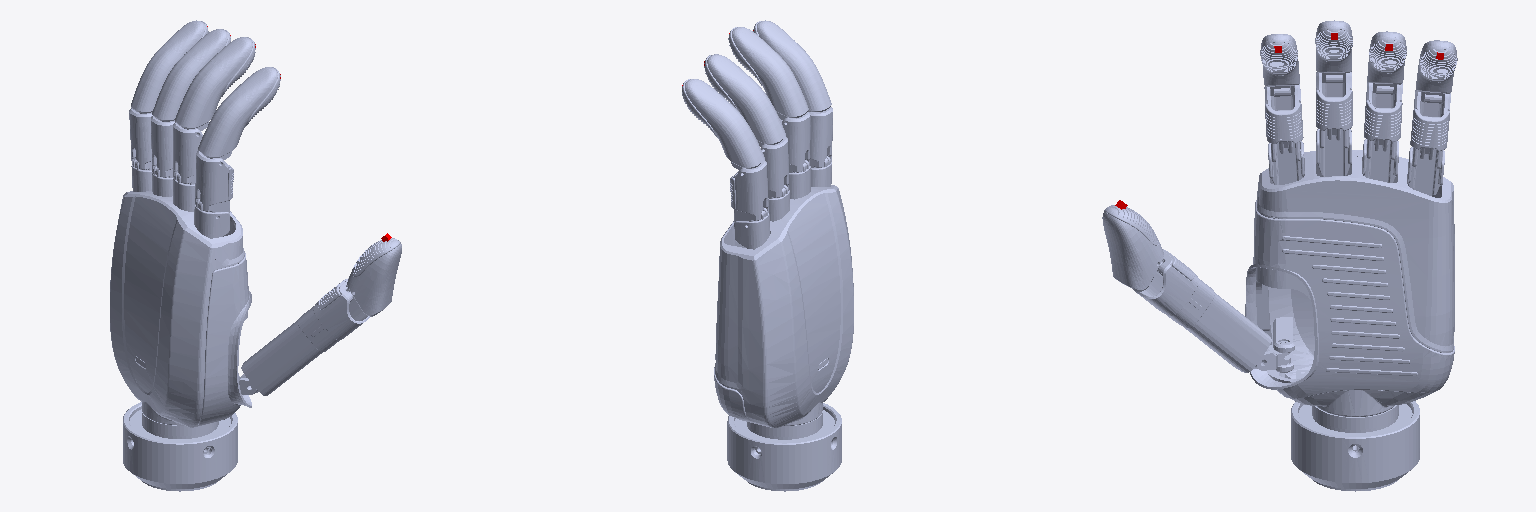
The robot description file, URDF, robot "LinkerLeftHand":
<?xml version="1.0" encoding="utf-8"?>

<!-- This URDF was automatically created by SolidWorks to URDF Exporter! Originally created by Stephen Brawner (brawner@gmail.com) 
     Commit Version: 1.6.0-1-g15f4949  Build Version: 1.6.7594.29634
     For more information, please see http://wiki.ros.org/sw_urdf_exporter -->
<robot name="LinkerLeftHand"> 
  <link name="base_link"> 
    <inertial> 
      <origin xyz="0.00646140274510786 -0.0112810445470838 0.0905307075615191" rpy="0 0 0"/>  
      <mass value="0.989011744524491"/>  
      <inertia ixx="0.00478399523069539" ixy="0.00035287455140517" ixz="-0.000147692771617922" iyy="0.00333942627823233" iyz="-0.000347763064470168" izz="0.00199340034930999"/> 
    </inertial>  
    <visual> 
      <origin xyz="0 0 0" rpy="0 0 0"/>  
      <geometry> 
        <mesh filename="Visual/L_base_link.dae"/> 
      </geometry>  
      <material name=""> 
        <color rgba="0.796078431372549 0.823529411764706 0.937254901960784 1"/> 
      </material> 
    </visual>  
    <collision> 
      <origin xyz="0 0 0" rpy="0 0 0"/>  
      <geometry> 
        <mesh filename="RoughCollision/L_base_link.obj"/> 
      </geometry> 
    </collision> 
  </link>  
  <link name="base_offset"> </link>  
  <link name="thumb_prox_base"> 
    <inertial> 
      <origin xyz="-0.00135186116860994 0.0163780842357051 0.0644493696518111" rpy="0 0 0"/>  
      <mass value="0.989011744524491"/>  
      <inertia ixx="0.00478399523069531" ixy="0.000357813993158782" ixz="-0.000135287656929621" iyy="0.0033620455775523" iyz="-0.000299968919938844" izz="0.0019707810499901"/> 
    </inertial>  
    <visual> 
      <origin xyz="0 0 0" rpy="0 0 0"/>  
      <geometry> 
        <mesh filename="Visual/L_thumb_prox_base.dae"/> 
      </geometry>  
      <material name=""> 
        <color rgba="0.796078431372549 0.823529411764706 0.937254901960784 1"/> 
      </material> 
    </visual>  
    <collision> 
      <origin xyz="0 0 0" rpy="0 0 0"/>  
      <geometry> 
        <mesh filename="RoughCollision/L_thumb_prox_base.obj"/> 
      </geometry> 
    </collision> 
  </link>  
  <link name="thumb_prox"> 
    <inertial> 
      <origin xyz="0.00426154427968824 0.0642777614231631 -0.0113261563982792" rpy="0 0 0"/>  
      <mass value="0.989011744524491"/>  
      <inertia ixx="0.00484765712058998" ixy="-0.000274494828841134" ixz="0.00010430639540464" iyy="0.0019571510273601" iyz="-0.000192950386299519" izz="0.00331201371028763"/> 
    </inertial>  
    <visual> 
      <origin xyz="0 0 0" rpy="0 0 0"/>  
      <geometry> 
        <mesh filename="Visual/L_thumb_prox.dae"/> 
      </geometry>  
      <material name=""> 
        <color rgba="0.796078431372549 0.823529411764706 0.937254901960784 1"/> 
      </material> 
    </visual>  
    <collision> 
      <origin xyz="0 0 0" rpy="0 0 0"/>  
      <geometry> 
        <mesh filename="RoughCollision/L_thumb_prox.obj"/> 
      </geometry> 
    </collision> 
  </link>  
  <link name="thumb_dist"> 
    <inertial> 
      <origin xyz="0.00426154427958488 0.0232665633409554 -0.108093649404571" rpy="0 0 0"/>  
      <mass value="0.989011744524491"/>  
      <inertia ixx="0.00484765712059143" ixy="-0.000223601900875571" ixz="0.000190340287655303" iyy="0.00198765527544143" iyz="0.000278618753530649" izz="0.00328150946220485"/> 
    </inertial>  
    <visual> 
      <origin xyz="0 0 0" rpy="0 0 0"/>  
      <geometry> 
        <mesh filename="Visual/L_thumb_dist.dae"/> 
      </geometry>  
      <material name=""> 
        <color rgba="0.796078431372549 0.823529411764706 0.937254901960784 1"/> 
      </material> 
    </visual>  
    <collision> 
      <origin xyz="0 0 0" rpy="0 0 0"/>  
      <geometry> 
        <mesh filename="RoughCollision/L_thumb_dist.obj"/> 
      </geometry> 
    </collision> 
  </link>  
  <link name="index_prox"> 
    <inertial> 
      <origin xyz="0.00712961438418152 0.015931631501703 -0.0313904584378722" rpy="0 0 0"/>  
      <mass value="0.989011744524491"/>  
      <inertia ixx="0.00478399523071926" ixy="0.000344661306613898" ixz="-0.000165958390898986" iyy="0.003299388304059" iyz="-0.000416206992946972" izz="0.00203343832345946"/> 
    </inertial>  
    <visual> 
      <origin xyz="0 0 0" rpy="0 0 0"/>  
      <geometry> 
        <mesh filename="Visual/L_index_prox.dae"/> 
      </geometry>  
      <material name=""> 
        <color rgba="0.796078431372549 0.823529411764706 0.937254901960784 1"/> 
      </material> 
    </visual>  
    <collision> 
      <origin xyz="0 0 0" rpy="0 0 0"/>  
      <geometry> 
        <mesh filename="RoughCollision/L_index_prox.obj"/> 
      </geometry> 
    </collision> 
  </link>  
  <link name="index_dist"> 
    <inertial> 
      <origin xyz="0.00619212906127241 0.0159316315019461 -0.0593926212341753" rpy="0 0 0"/>  
      <mass value="0.989011744524491"/>  
      <inertia ixx="0.0047839952306951" ixy="0.00034466130666357" ixz="-0.000165958390890538" iyy="0.00329938830408247" iyz="-0.000416206992953332" izz="0.00203343832346015"/> 
    </inertial>  
    <visual> 
      <origin xyz="0 0 0" rpy="0 0 0"/>  
      <geometry> 
        <mesh filename="Visual/L_index_dist.dae"/> 
      </geometry>  
      <material name=""> 
        <color rgba="0.796078431372549 0.823529411764706 0.937254901960784 1"/> 
      </material> 
    </visual>  
    <collision> 
      <origin xyz="0 0 0" rpy="0 0 0"/>  
      <geometry> 
        <mesh filename="RoughCollision/L_index_dist.obj"/> 
      </geometry> 
    </collision> 
  </link>  
  <link name="middle_prox"> 
    <inertial> 
      <origin xyz="0.0071296143837387 -0.00251314991895438 -0.0365110175625511" rpy="0 0 0"/>  
      <mass value="0.989011744524491"/>  
      <inertia ixx="0.0047839952306951" ixy="0.000352874551405479" ixz="-0.000147692771618648" iyy="0.00333942627823253" iyz="-0.000347763064470315" izz="0.00199340034931008"/> 
    </inertial>  
    <visual> 
      <origin xyz="0 0 0" rpy="0 0 0"/>  
      <geometry> 
        <mesh filename="Visual/L_middle_prox.dae"/> 
      </geometry>  
      <material name=""> 
        <color rgba="0.796078431372549 0.823529411764706 0.937254901960784 1"/> 
      </material> 
    </visual>  
    <collision> 
      <origin xyz="0 0 0" rpy="0 0 0"/>  
      <geometry> 
        <mesh filename="RoughCollision/L_middle_prox.obj"/> 
      </geometry> 
    </collision> 
  </link>  
  <link name="middle_dist"> 
    <inertial> 
      <origin xyz="0.00619212906148296 -0.00251314991895465 -0.0645131803588548" rpy="0 0 0"/>  
      <mass value="0.989011744524491"/>  
      <inertia ixx="0.0047839952306951" ixy="0.000352874551405479" ixz="-0.000147692771618648" iyy="0.00333942627823253" iyz="-0.000347763064470315" izz="0.00199340034931008"/> 
    </inertial>  
    <visual> 
      <origin xyz="0 0 0" rpy="0 0 0"/>  
      <geometry> 
        <mesh filename="Visual/L_middle_dist.dae"/> 
      </geometry>  
      <material name=""> 
        <color rgba="0.796078431372549 0.823529411764706 0.937254901960784 1"/> 
      </material> 
    </visual>  
    <collision> 
      <origin xyz="0 0 0" rpy="0 0 0"/>  
      <geometry> 
        <mesh filename="RoughCollision/L_middle_dist.obj"/> 
      </geometry> 
    </collision> 
  </link>  
  <link name="ring_prox"> 
    <inertial> 
      <origin xyz="0.00713508587423539 -0.0204517282029687 -0.0326279626835988" rpy="0 0 0"/>  
      <mass value="0.989011744524491"/>  
      <inertia ixx="0.0047839952306951" ixy="0.000360120591529546" ixz="-0.000129022336726732" iyy="0.00337209058150474" iyz="-0.000275508971082514" izz="0.00196073604603787"/> 
    </inertial>  
    <visual> 
      <origin xyz="0 0 0" rpy="0 0 0"/>  
      <geometry> 
        <mesh filename="Visual/L_ring_prox.dae"/> 
      </geometry>  
      <material name=""> 
        <color rgba="0.796078431372549 0.823529411764706 0.937254901960784 1"/> 
      </material> 
    </visual>  
    <collision> 
      <origin xyz="0 0 0" rpy="0 0 0"/>  
      <geometry> 
        <mesh filename="RoughCollision/L_ring_prox.obj"/> 
      </geometry> 
    </collision> 
  </link>  
  <link name="ring_dist"> 
    <inertial> 
      <origin xyz="0.00619785363836412 -0.0204517282030047 -0.0606301339518551" rpy="0 0 0"/>  
      <mass value="0.989011744524491"/>  
      <inertia ixx="0.0047839952306951" ixy="0.000360120591529546" ixz="-0.000129022336726731" iyy="0.00337209058150474" iyz="-0.000275508971082512" izz="0.00196073604603787"/> 
    </inertial>  
    <visual> 
      <origin xyz="0 0 0" rpy="0 0 0"/>  
      <geometry> 
        <mesh filename="Visual/L_ring_dist.dae"/> 
      </geometry>  
      <material name=""> 
        <color rgba="0.796078431372549 0.823529411764706 0.937254901960784 1"/> 
      </material> 
    </visual>  
    <collision> 
      <origin xyz="0 0 0" rpy="0 0 0"/>  
      <geometry> 
        <mesh filename="RoughCollision/L_ring_dist.obj"/> 
      </geometry> 
    </collision> 
  </link>  
  <link name="little_prox"> 
    <inertial> 
      <origin xyz="0.00713992514207193 -0.0337446376464546 -0.0310163855948786" rpy="0 0 0"/>  
      <mass value="0.989011744524491"/>  
      <inertia ixx="0.0047839952306951" ixy="0.000364404030410407" ixz="-0.000116375712408851" iyy="0.00338959012145513" iyz="-0.000225612287278209" izz="0.00194323650608748"/> 
    </inertial>  
    <visual> 
      <origin xyz="0 0 0" rpy="0 0 0"/>  
      <geometry> 
        <mesh filename="Visual/L_little_prox.dae"/> 
      </geometry>  
      <material name=""> 
        <color rgba="0.796078431372549 0.823529411764706 0.937254901960784 1"/> 
      </material> 
    </visual>  
    <collision> 
      <origin xyz="0 0 0" rpy="0 0 0"/>  
      <geometry> 
        <mesh filename="RoughCollision/L_little_prox.obj"/> 
      </geometry> 
    </collision> 
  </link>  
  <link name="little_dist"> 
    <inertial> 
      <origin xyz="0.00620269290617523 -0.0386723586880089 -0.0590185568631258" rpy="0 0 0"/>  
      <mass value="0.989011744524491"/>  
      <inertia ixx="0.0047839952306951" ixy="0.000364404030410407" ixz="-0.000116375712408851" iyy="0.00338959012145513" iyz="-0.000225612287278209" izz="0.00194323650608748"/> 
    </inertial>  
    <visual> 
      <origin xyz="0 0 0" rpy="0 0 0"/>  
      <geometry> 
        <mesh filename="Visual/L_little_dist.dae"/> 
      </geometry>  
      <material name=""> 
        <color rgba="0.796078431372549 0.823529411764706 0.937254901960784 1"/> 
      </material> 
    </visual>  
    <collision> 
      <origin xyz="0 0 0" rpy="0 0 0"/>  
      <geometry> 
        <mesh filename="RoughCollision/L_little_dist.obj"/> 
      </geometry> 
    </collision> 
  </link>  
  <link name="thumb_tip_link">
    <inertial>
      <mass value="0.001"/>
      <inertia ixx="1e-6" ixy="0" ixz="0" iyy="1e-6" iyz="0" izz="1e-6"/>
    </inertial>
    <visual>
      <geometry>
        <box size="0.003 0.003 0.003"/>
      </geometry>
      <material name="tip_color">
        <color rgba="1 0 0 1"/>
      </material>
    </visual>
  </link>
  <link name="index_tip_link">
    <inertial>
      <mass value="0.001"/>
      <inertia ixx="1e-6" ixy="0" ixz="0" iyy="1e-6" iyz="0" izz="1e-6"/>
    </inertial>
    <visual>
      <geometry>
        <box size="0.003 0.003 0.003"/>
      </geometry>
      <material name="tip_color">
        <color rgba="1 0 0 1"/>
      </material>
    </visual>
  </link>
  <link name="middle_tip_link">
    <inertial>
      <mass value="0.001"/>
      <inertia ixx="1e-6" ixy="0" ixz="0" iyy="1e-6" iyz="0" izz="1e-6"/>
    </inertial>
    <visual>
      <geometry>
        <box size="0.003 0.003 0.003"/>
      </geometry>
      <material name="tip_color">
        <color rgba="1 0 0 1"/>
      </material>
    </visual>
  </link>
  <link name="ring_tip_link">
    <inertial>
      <mass value="0.001"/>
      <inertia ixx="1e-6" ixy="0" ixz="0" iyy="1e-6" iyz="0" izz="1e-6"/>
    </inertial>
    <visual>
      <geometry>
        <box size="0.003 0.003 0.003"/>
      </geometry>
      <material name="tip_color">
        <color rgba="1 0 0 1"/>
      </material>
    </visual>
  </link>
  <link name="little_tip_link">
    <inertial>
      <mass value="0.001"/>
      <inertia ixx="1e-6" ixy="0" ixz="0" iyy="1e-6" iyz="0" izz="1e-6"/>
    </inertial>
    <visual>
      <geometry>
        <box size="0.003 0.003 0.003"/>
      </geometry>
      <material name="tip_color">
        <color rgba="1 0 0 1"/>
      </material>
    </visual>
  </link>

  <joint name="BASE_OFFSET" type="fixed"> 
    <origin xyz="0 -0.00013 0.0264" rpy="0 0 0"/>  
    <parent link="base_link"/>  
    <child link="base_offset"/>
  </joint>
  <joint name="thumbCMC" type="revolute"> 
    <origin xyz="0.0078133 -0.029898 0.030692" rpy="0 0 0"/>  
    <parent link="base_offset"/>  
    <child link="thumb_prox_base"/>  
    <axis xyz="0 0 1"/>  
    <limit lower="0" upper="1.0471975511965976" effort="0" velocity="0"/> 
  </joint>  
  <joint name="thumbMCP" type="revolute"> 
    <origin xyz="0.0080248 -0.011602 0.0026685" rpy="1.4249 0 0.61087"/>  
    <parent link="thumb_prox_base"/>  
    <child link="thumb_prox"/>  
    <axis xyz="-1 0 0"/>  
    <limit lower="0.235968" upper="0.99" effort="0" velocity="0"/> 
  </joint>  
  <joint name="thumbPIP" type="revolute"> 
    <origin xyz="0 0.0061 0.0827" rpy="0.34208 0 0"/>  
    <parent link="thumb_prox"/>  
    <child link="thumb_dist"/>  
    <axis xyz="-1 0 0"/>  
    <limit lower="0.612611" upper="1.22" effort="0" velocity="0"/>  
    <mimic joint="thumbMCP" multiplier="0.611762" offset="0.0"/> 
  </joint>  
  <joint name="thumb_tip_joint" type="fixed">
    <parent link="thumb_dist"/>
    <child link="thumb_tip_link"/>
    <origin xyz="0.0 0.01 0.028" rpy="0 0 0"/>
  </joint>
  <joint name="indexMCP" type="revolute"> 
    <origin xyz="-0.00066821 -0.028834 0.12104" rpy="0.05236 0 0"/>  
    <parent link="base_offset"/>  
    <child link="index_prox"/>  
    <axis xyz="0 1 0"/>  
    <limit lower="0" upper="1.167625" effort="0" velocity="0"/> 
  </joint>  
  <joint name="indexPIP" type="revolute"> 
    <origin xyz="0.00093749 0 0.028002" rpy="0 0 0"/>  
    <parent link="index_prox"/>  
    <child link="index_dist"/>  
    <axis xyz="0 1 0"/>  
    <limit lower="0" upper="1.14" effort="0" velocity="0"/>  
    <mimic joint="indexMCP" multiplier="0.976341" offset="0"/> 
  </joint>  
  <joint name="index_tip_joint" type="fixed">
    <parent link="index_dist"/>
    <child link="index_tip_link"/>
    <origin xyz="0.033 0.0 0.035" rpy="0 0 0"/>
  </joint>
  <joint name="middleMCP" type="revolute"> 
    <origin xyz="-0.00066821 -0.0087679 0.12704" rpy="0 0 0"/>  
    <parent link="base_offset"/>  
    <child link="middle_prox"/>  
    <axis xyz="0 1 0"/>  
    <limit lower="0" upper="1.137955" effort="0" velocity="0"/> 
  </joint>  
  <joint name="middlePIP" type="revolute"> 
    <origin xyz="0.00093749 0 0.028002" rpy="0 0 0"/>  
    <parent link="middle_prox"/>  
    <child link="middle_dist"/>  
    <axis xyz="0 1 0"/>  
    <limit lower="0" upper="1.14" effort="0" velocity="0"/>  
    <mimic joint="middleMCP" multiplier="1.001797" offset="0"/> 
  </joint>  
  <joint name="middle_tip_joint" type="fixed">
    <parent link="middle_dist"/>
    <child link="middle_tip_link"/>
    <origin xyz="0.033 0 0.035" rpy="0 0 0"/>
  </joint>
  <joint name="ringMCP" type="revolute"> 
    <origin xyz="-0.00067368 0.01085 0.12204" rpy="-0.05236 0 0"/>  
    <parent link="base_offset"/>  
    <child link="ring_prox"/>  
    <axis xyz="0 1 0"/>  
    <limit lower="0" upper="1.160644" effort="0" velocity="0"/> 
  </joint>  
  <joint name="ringPIP" type="revolute"> 
    <origin xyz="0.00093723 0 0.028002" rpy="0 0 0"/>  
    <parent link="ring_prox"/>  
    <child link="ring_dist"/>  
    <axis xyz="0 1 0"/>  
    <limit lower="0" upper="1.14" effort="0" velocity="0"/>  
    <mimic joint="ringMCP" multiplier="0.982213" offset="0"/> 
  </joint>  
  <joint name="ring_tip_joint" type="fixed">
    <parent link="ring_dist"/>
    <child link="ring_tip_link"/>
    <origin xyz="0.033 0 0.035" rpy="0 0 0"/>
  </joint>
  <joint name="littleMCP" type="revolute"> 
    <origin xyz="-0.00067852 0.025038 0.11849" rpy="-0.087266 0 0"/>  
    <parent link="base_offset"/>  
    <child link="little_prox"/>  
    <axis xyz="0 1 0"/>  
    <limit lower="0" upper="1.169370" effort="0" velocity="0"/> 
  </joint>  
  <joint name="littlePIP" type="revolute"> 
    <origin xyz="0.00093723 0.0049277 0.028002" rpy="0 0 0"/>  
    <parent link="little_prox"/>  
    <child link="little_dist"/>  
    <axis xyz="0 1 0"/>  
    <limit lower="0" upper="1.14" effort="0" velocity="0"/>  
    <mimic joint="littleMCP" multiplier="0.974884" offset="0"/> 
  </joint> 
  <joint name="little_tip_joint" type="fixed">
    <parent link="little_dist"/>
    <child link="little_tip_link"/>
    <origin xyz="0.033 0 0.035" rpy="0 0 0"/>
  </joint>
</robot>

--- Facts derived from the render (not from the file) ---
3 views of the same robot in one strip: view 1: azimuth 30°, elevation 25°; view 2: azimuth 150°, elevation 25°; view 3: azimuth 270°, elevation 25° (orthographic).
Model LinkerLeftHand with 18 links and 17 joints (11 revolute, 6 fixed), rooted at base_link, posed all joints at 0 but 2 set to mid-range because 0 is outside their limits (thumbMCP = 0.613, thumbPIP = 0.375).
Visible links, largest first — view 1: base_link, thumb_prox, index_dist, middle_dist, thumb_dist, ring_dist, little_dist, index_prox, middle_prox, ring_prox, little_prox; view 2: base_link, little_dist, middle_dist, ring_dist, index_dist, little_prox, middle_prox, ring_prox, index_prox; view 3: base_link, thumb_prox, thumb_dist, little_dist, middle_dist, index_dist, ring_dist, little_prox, index_prox, ring_prox, middle_prox, thumb_prox_base.
Link boxes in pixels (x1,y1,x2,y2): base_link: [110, 159, 251, 491]; thumb_prox: [241, 278, 369, 395]; index_dist: [198, 67, 280, 159]; middle_dist: [175, 37, 255, 130]; thumb_dist: [347, 238, 401, 316]; ring_dist: [152, 29, 230, 121]; little_dist: [131, 20, 208, 113]; index_prox: [195, 150, 233, 217]; middle_prox: [173, 122, 202, 184]; ring_prox: [151, 116, 174, 177]; little_prox: [129, 108, 152, 169]; base_link: [714, 156, 853, 491]; little_dist: [682, 79, 764, 170]; middle_dist: [728, 27, 808, 119]; ring_dist: [704, 54, 785, 146]; index_dist: [753, 20, 831, 112]; little_prox: [730, 160, 768, 226]; middle_prox: [782, 112, 810, 172]; ring_prox: [761, 137, 788, 198]; index_prox: [810, 107, 832, 167]; base_link: [1245, 129, 1454, 491]; thumb_prox: [1133, 249, 1271, 372]; thumb_dist: [1102, 205, 1163, 291]; little_dist: [1416, 40, 1457, 103]; middle_dist: [1315, 20, 1352, 83]; index_dist: [1260, 34, 1299, 96]; ring_dist: [1367, 31, 1406, 94]; little_prox: [1410, 90, 1450, 168]; index_prox: [1264, 84, 1303, 161]; ring_prox: [1364, 81, 1402, 159]; middle_prox: [1316, 72, 1352, 148]; thumb_prox_base: [1255, 341, 1290, 370].
Size in the robot's own frame: 0.0905 by 0.1482 by 0.2212 metres.
Meshes: 12 distinct files referenced, 12 mesh visuals loaded (12 Collada DAE).
